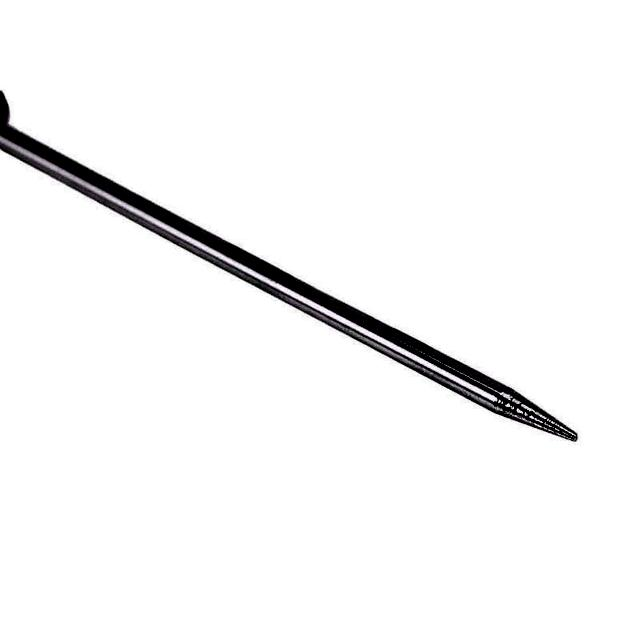ice pick: (0, 90, 580, 444)
